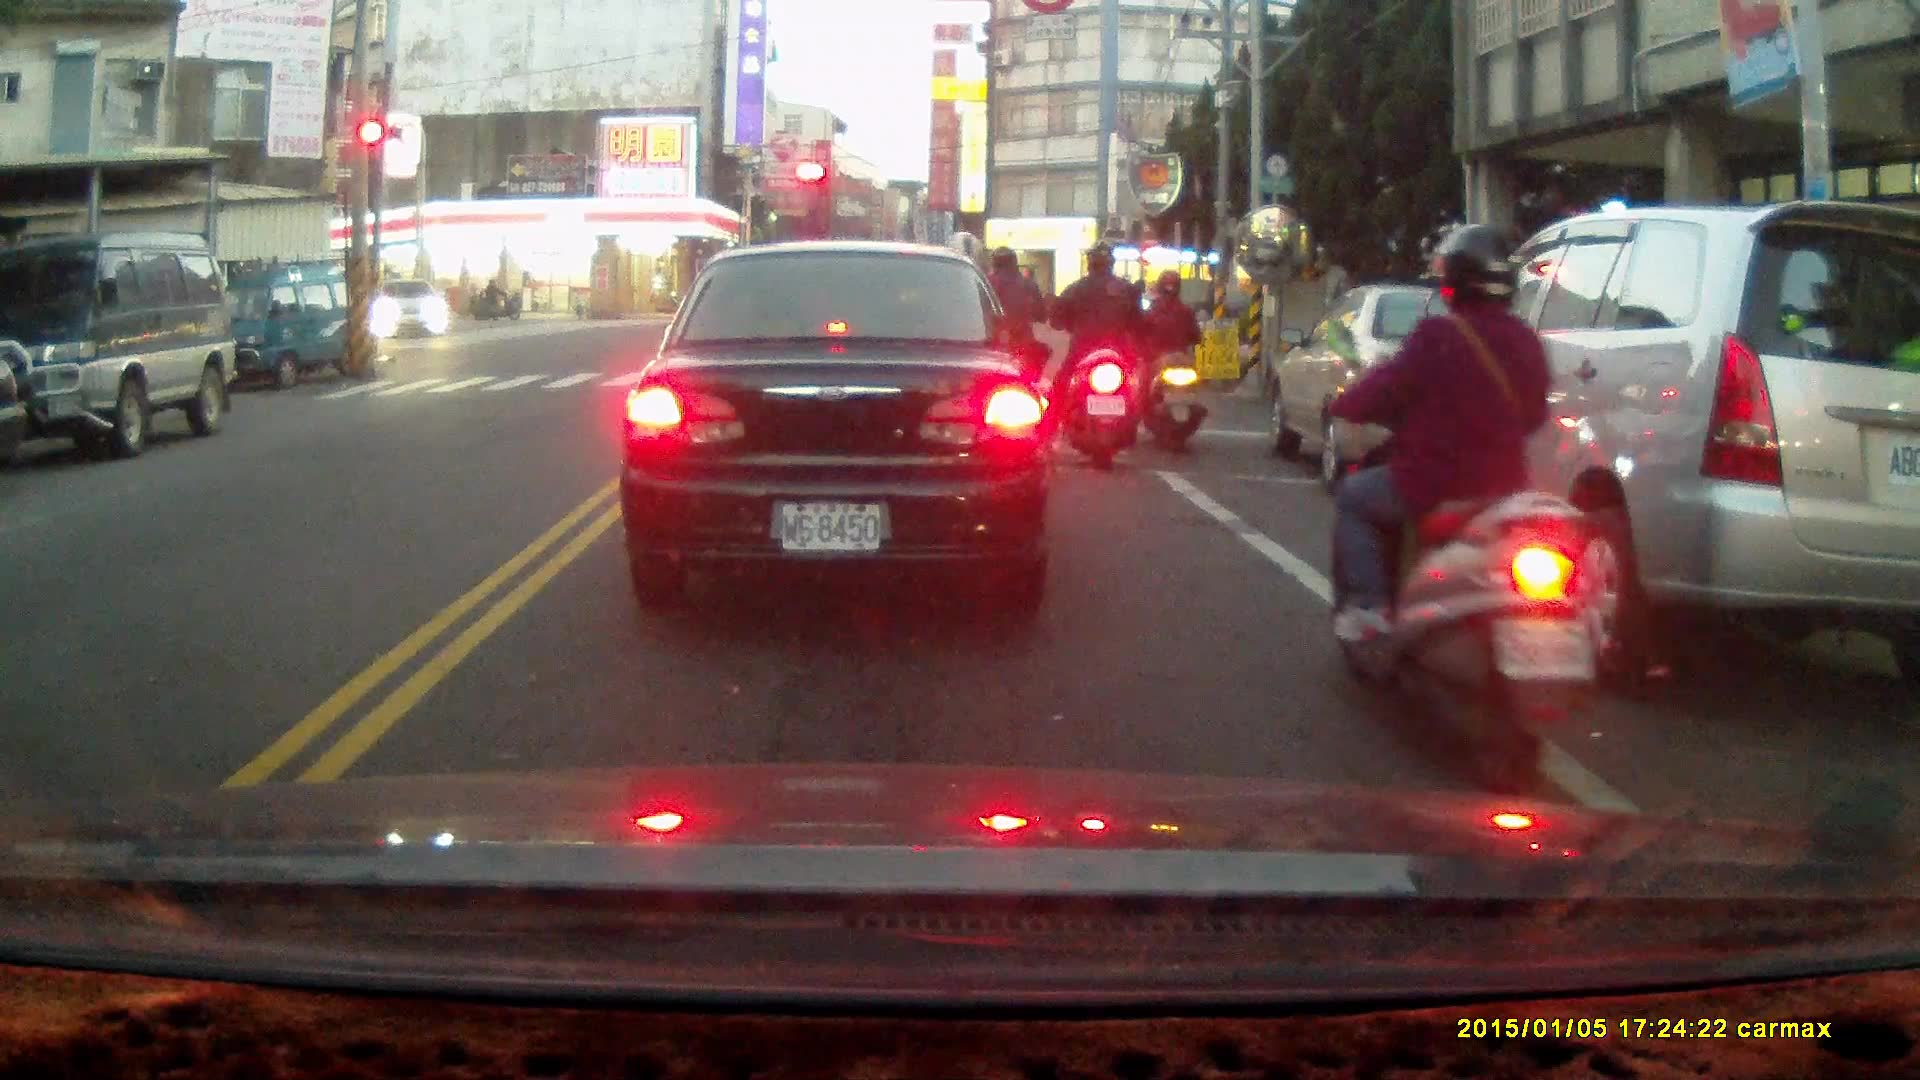rider: (1319, 223, 1613, 801), (1048, 242, 1141, 468), (960, 239, 1056, 435), (1134, 269, 1204, 450), (474, 279, 520, 322)
vehicle: (1373, 195, 1920, 686), (617, 243, 1061, 606), (1265, 285, 1571, 497), (1, 234, 239, 458), (194, 255, 381, 393), (372, 277, 451, 343)
